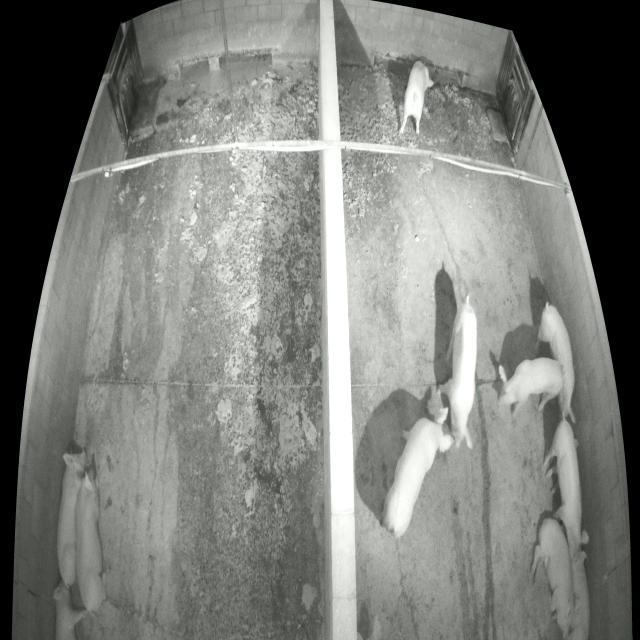pig: (382, 407, 455, 538), (543, 421, 589, 562), (530, 519, 582, 637), (436, 303, 477, 450), (535, 306, 576, 424), (75, 466, 107, 614), (56, 449, 88, 588), (498, 357, 562, 418), (398, 61, 434, 135), (566, 552, 592, 639), (53, 580, 88, 638), (357, 612, 380, 638)
